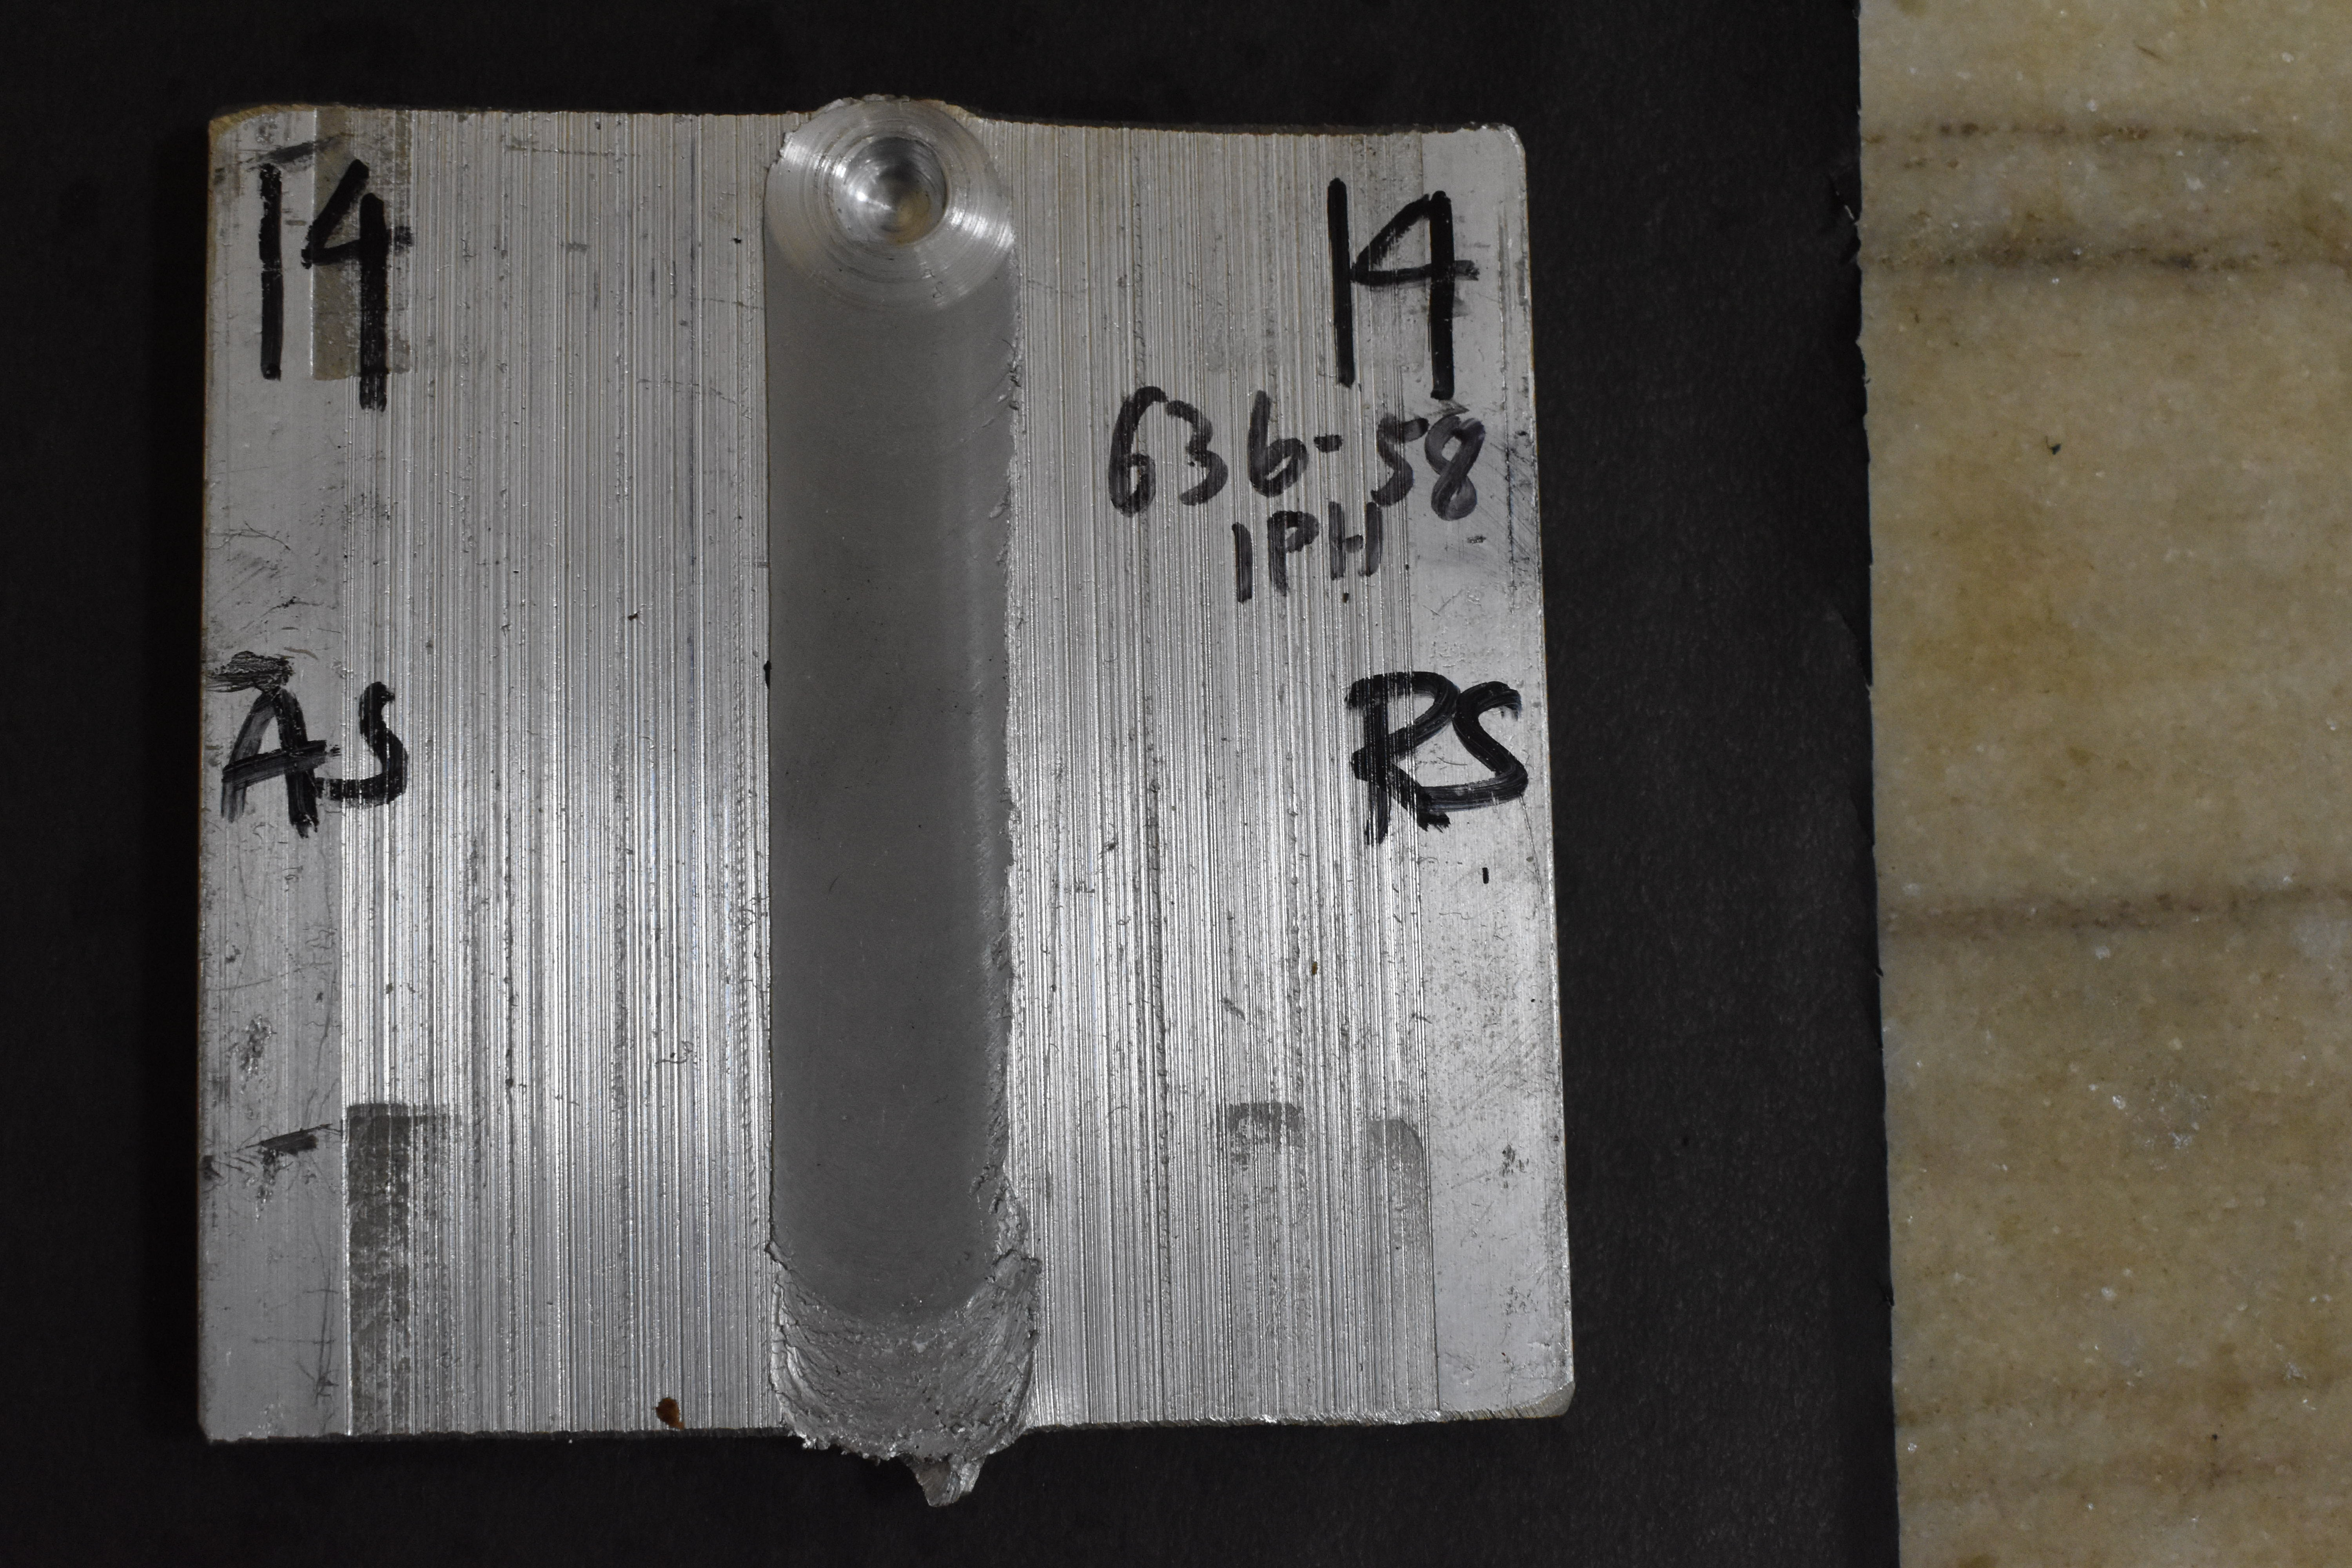flash: (779, 1409, 1003, 1510)
keyhole: (829, 140, 954, 252)
